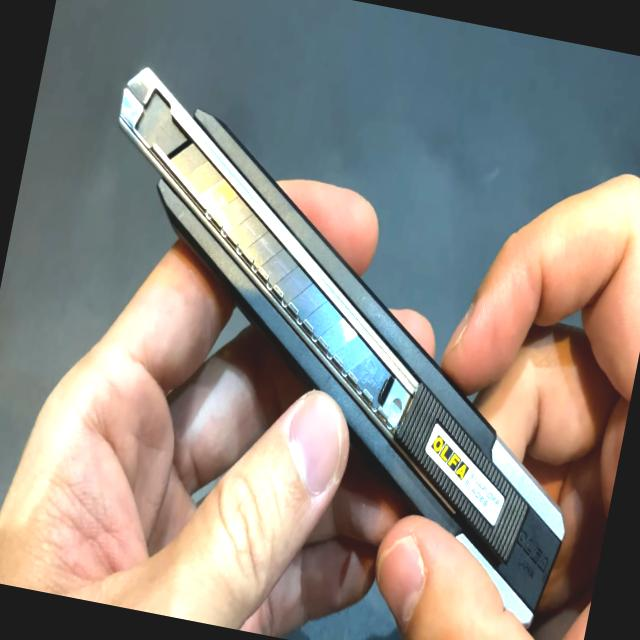cutter: (16, 20, 640, 640)
